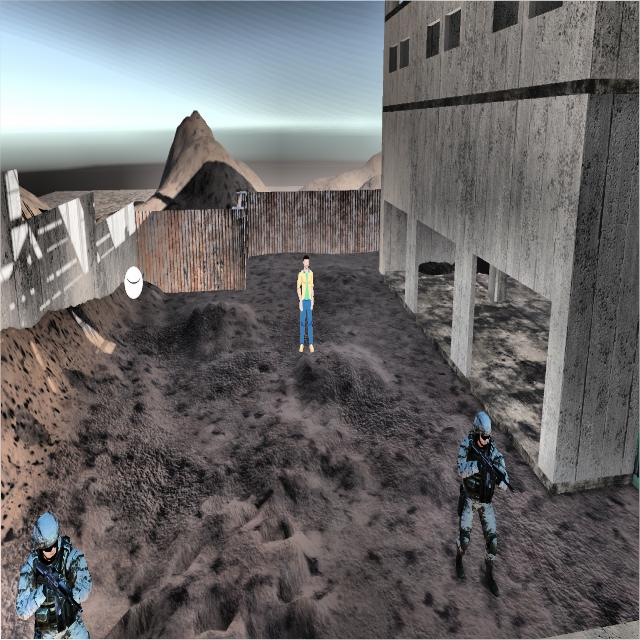bad: (1, 501, 99, 640), (450, 386, 507, 608)
good: (292, 250, 318, 358)
